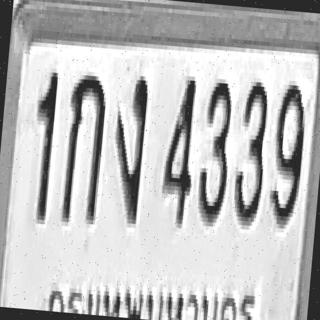A01: (59, 70, 107, 224)
A07: (108, 70, 150, 224)
N01: (26, 69, 58, 222)
N03: (195, 76, 235, 225), (231, 77, 271, 226)
N04: (159, 73, 200, 226)
N09: (268, 80, 308, 225)
